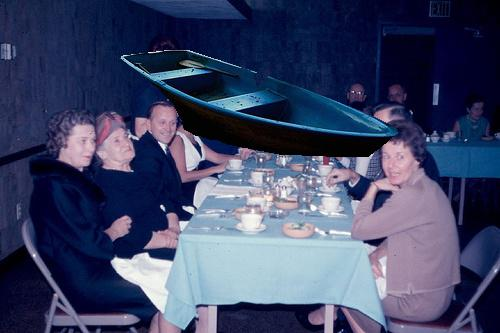tampered: (121, 51, 398, 157)
